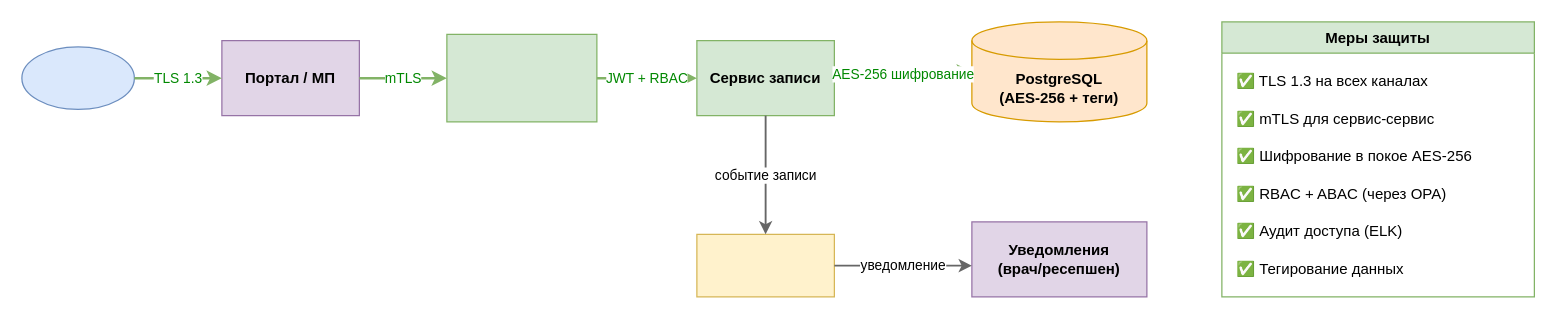
The diagram is 1556 pixels wide and 319 high, and some of its shapes have lost their labels. Each missing label, with the centre of its shape:
API Gateway (mTLS / JWT): the point at 521,77
Kafka: the point at 765,265
Пациент: the point at 77,77
